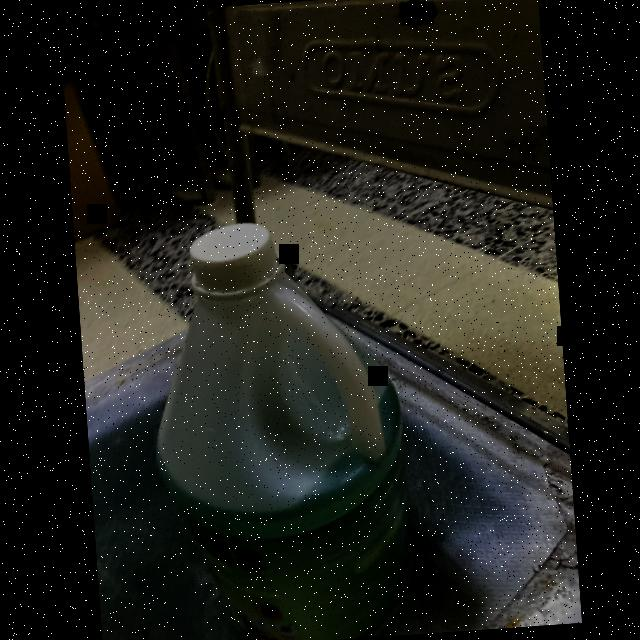chemical_plastic_gallon: (137, 212, 426, 640)
